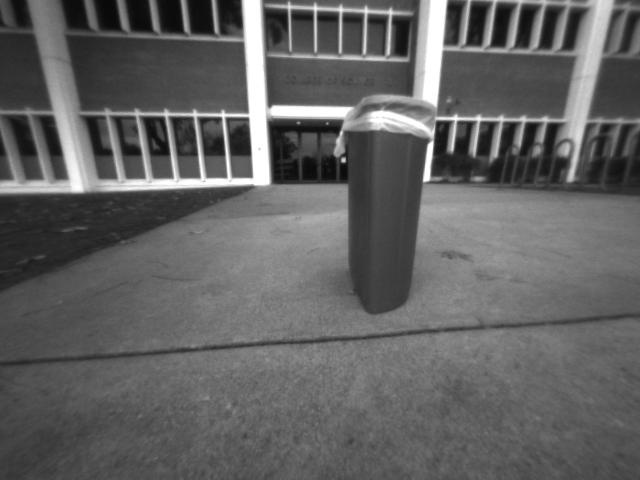trashcan: (337, 85, 441, 330)
